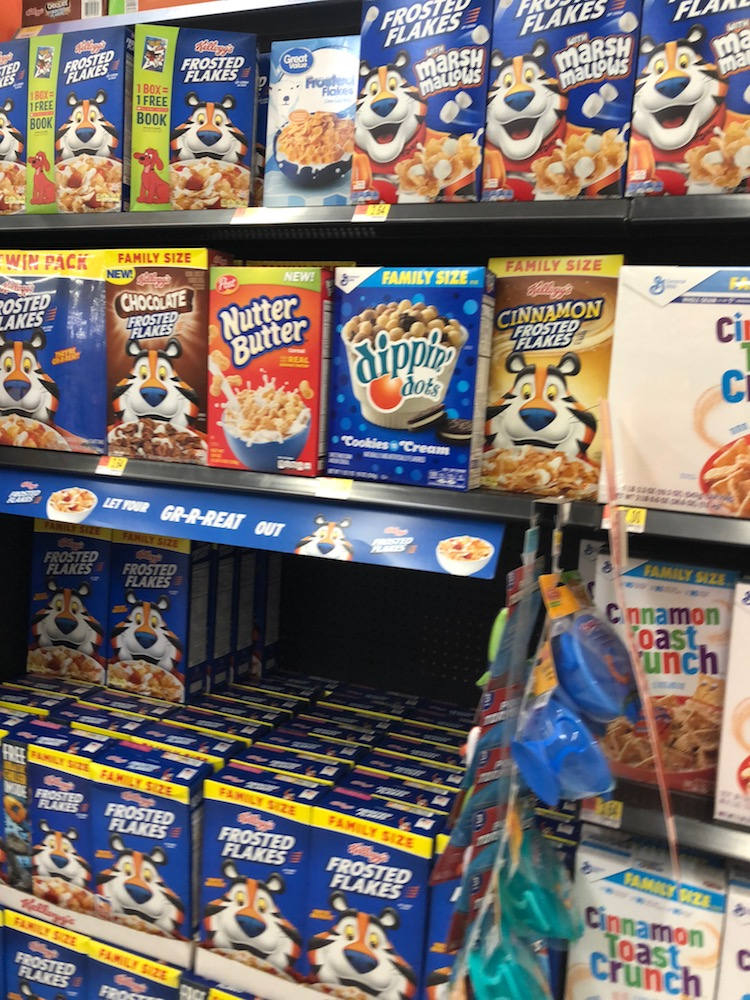Dippin Dots Cookies & Cream -568929378: (327, 279, 479, 496)
Nutter Butter-565717511: (206, 268, 324, 468)
